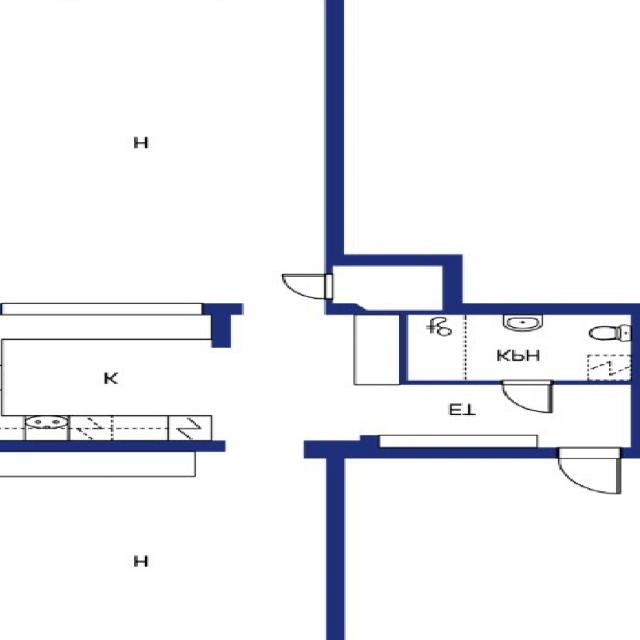door: (560, 449, 622, 494), (502, 380, 554, 414), (278, 273, 334, 300)
